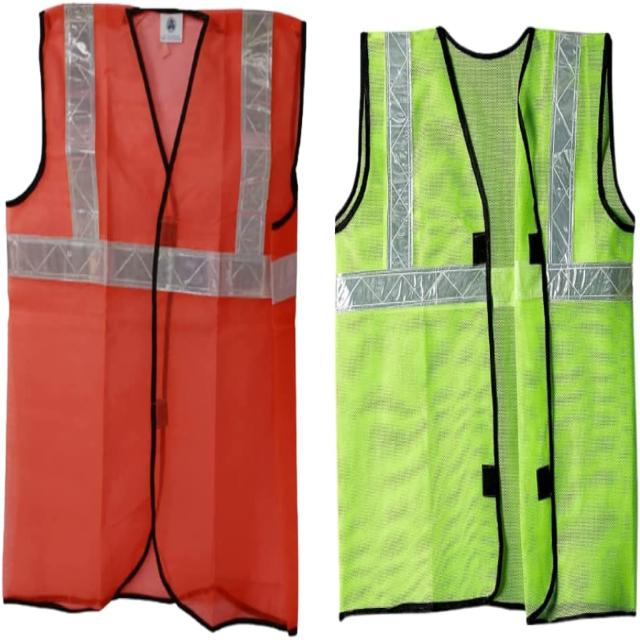safety_helmet: (8, 0, 303, 640), (350, 11, 636, 617)
